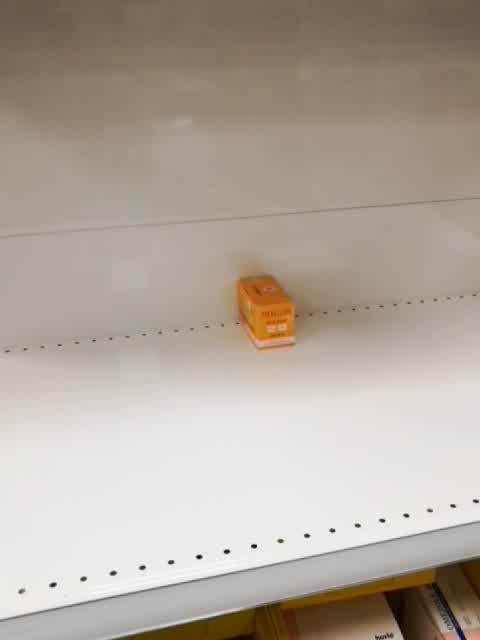jasminetea: (236, 275, 296, 351)
